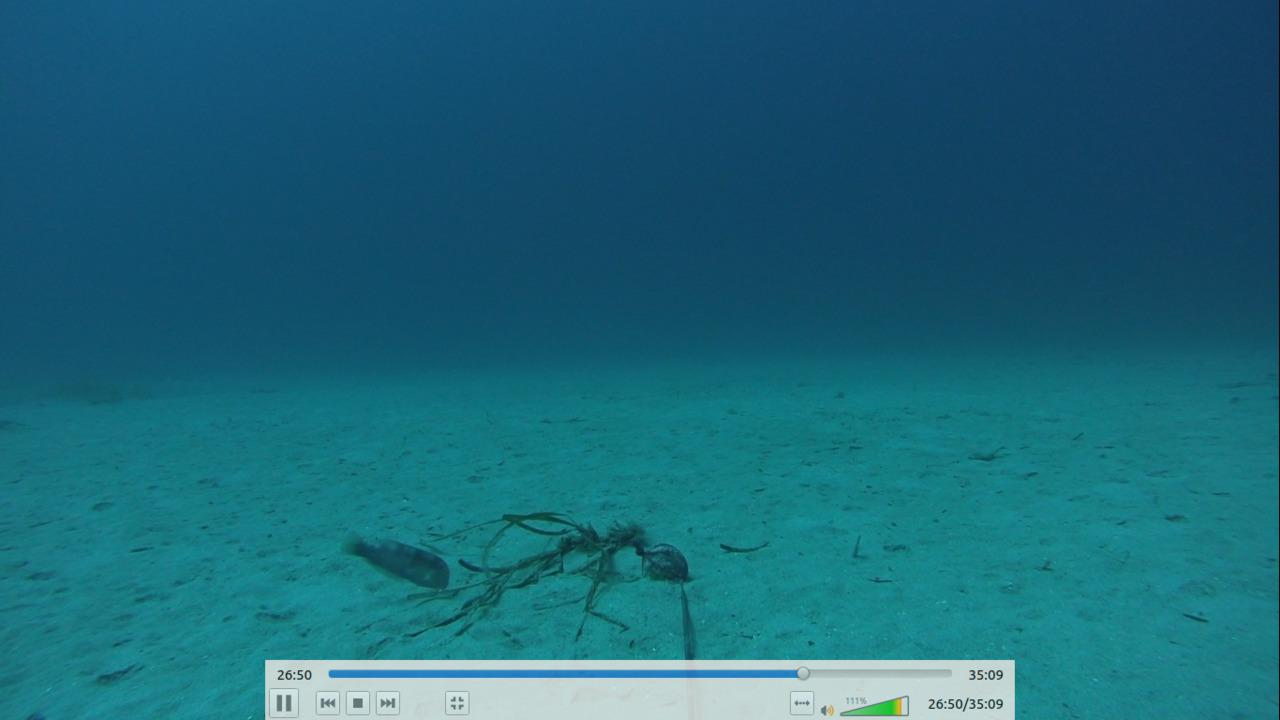raor: (338, 530, 454, 595)
